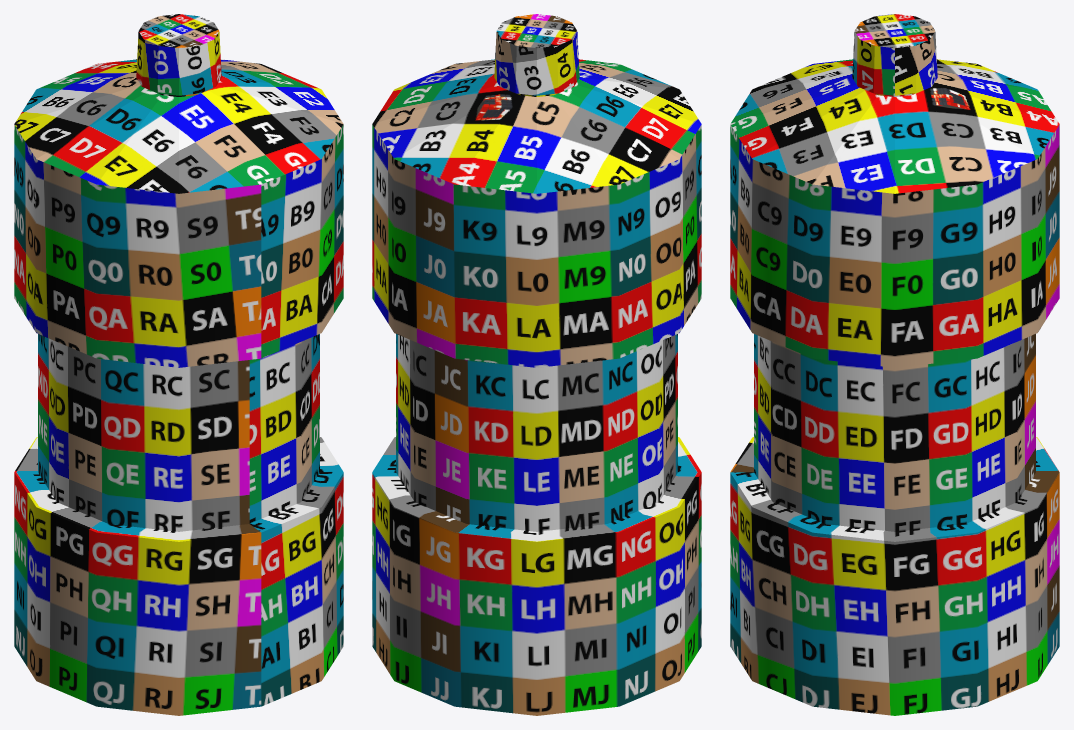
The model's file is cleaningsupply3.FBX.
3 renders of one model, left to right at view 1: azimuth 30°, elevation 25°; view 2: azimuth 150°, elevation 25°; view 3: azimuth 270°, elevation 25°, orthographic.
Parts seen in each view (by area): view 1: cleaningsupply3; view 2: cleaningsupply3; view 3: cleaningsupply3.
Boxes of the visible parts, x1,y1,x2,y2 form: cleaningsupply3: (14, 14, 343, 715); cleaningsupply3: (372, 14, 701, 715); cleaningsupply3: (730, 14, 1059, 715).
Size of the model in its own units: 0.2565 by 0.5284 by 0.2565.
Materials: 1 (1 with a texture image).
